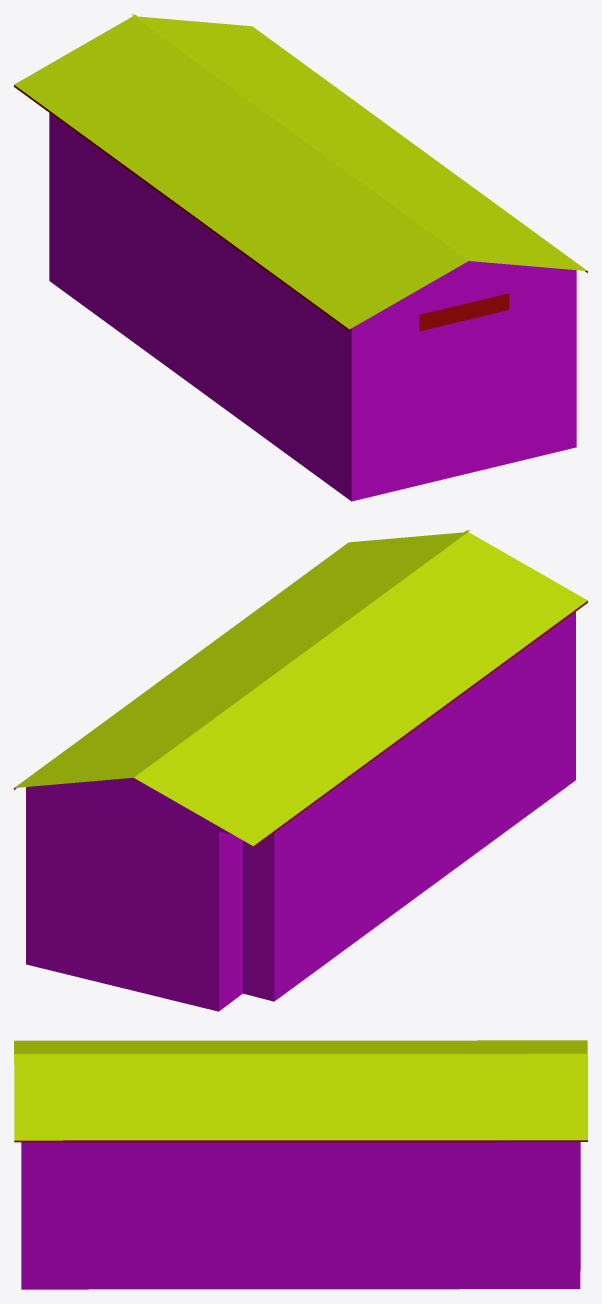
Rendered from niv_99.glb.
3 renders of one model, top to bottom at view 1: azimuth 30°, elevation 25°; view 2: azimuth 150°, elevation 25°; view 3: azimuth 270°, elevation 25°, orthographic. The views are drawn at different scales.
Parts seen in each view (by area): view 1: niv_99; view 2: niv_99; view 3: niv_99.
Boxes of the visible parts, bbox=[...] form: niv_99: bbox=[14, 14, 587, 501]; niv_99: bbox=[14, 530, 587, 1011]; niv_99: bbox=[14, 1040, 587, 1289].
Size of the model in its own units: 13.53 by 11.83 by 32.79.
